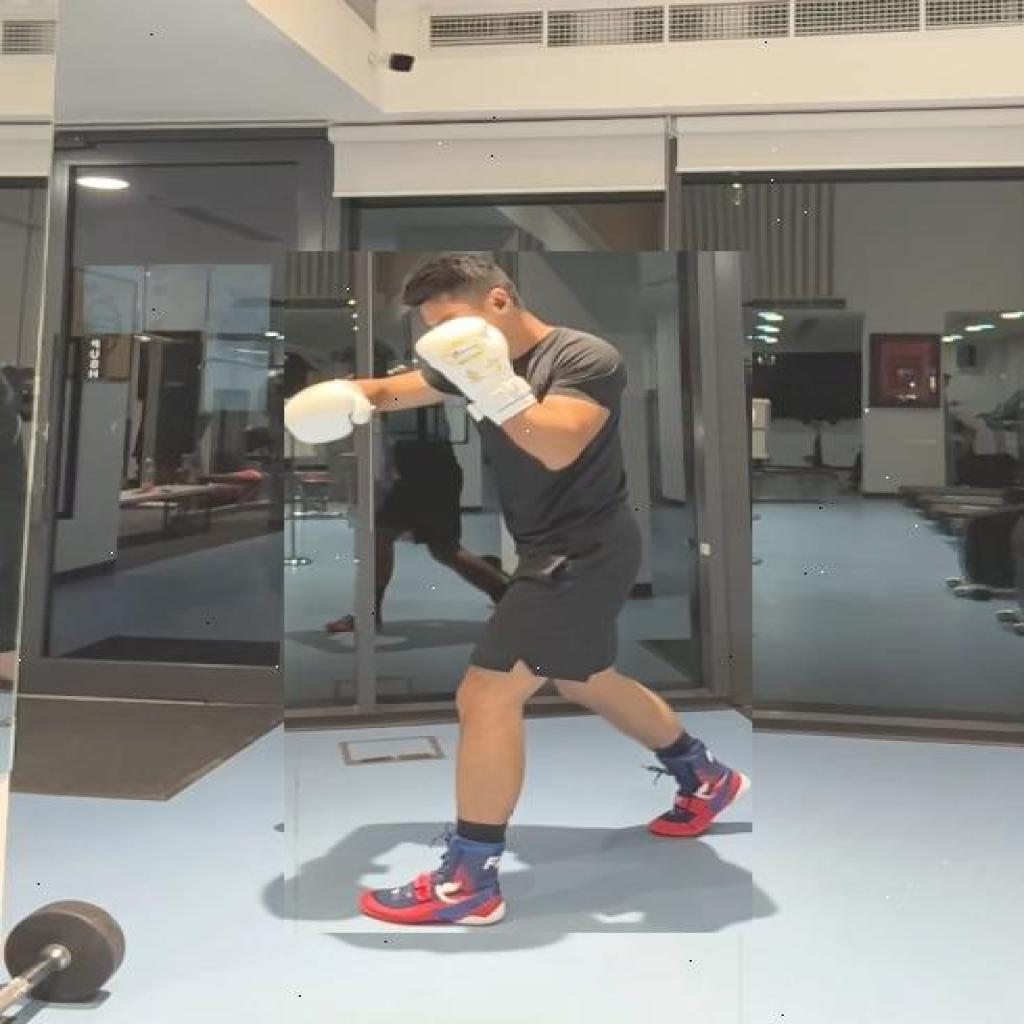hook: (284, 251, 754, 933)
